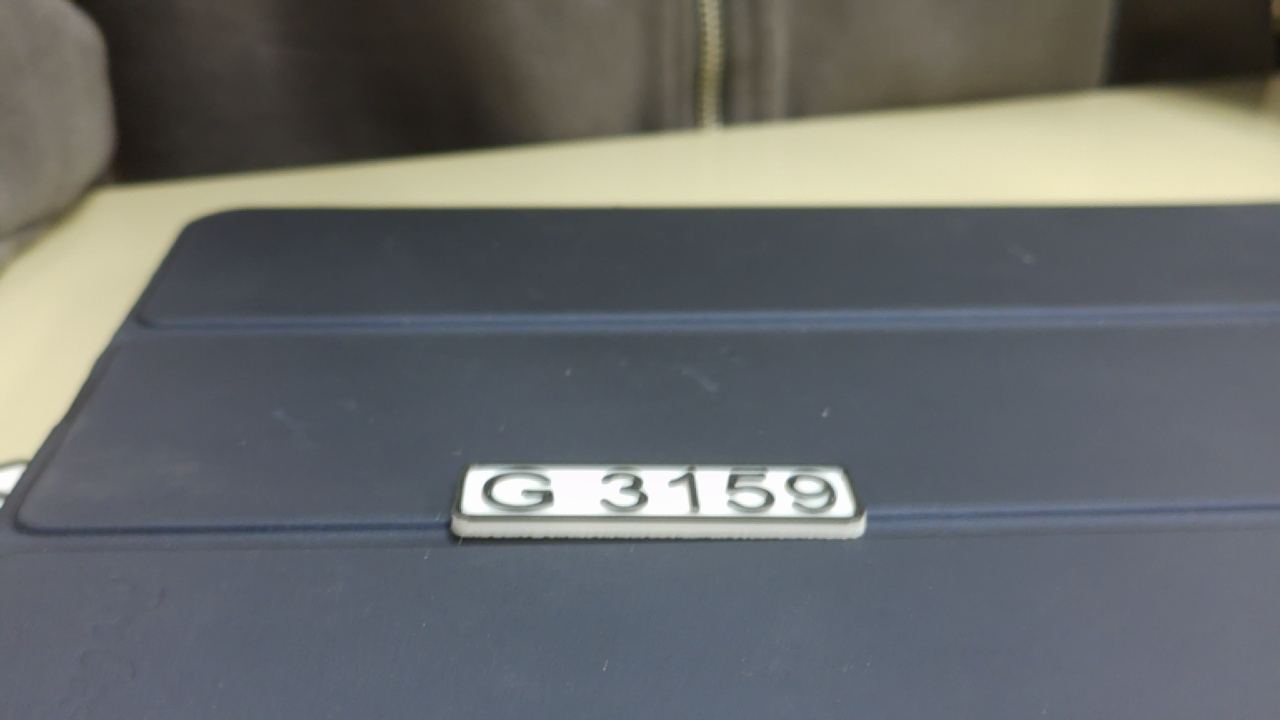license_plate: (445, 456, 871, 542)
